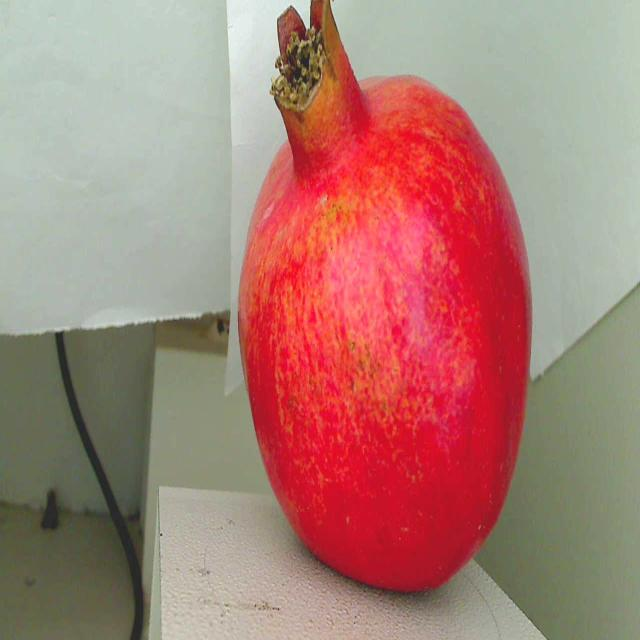pomegranate: (219, 0, 540, 611)
